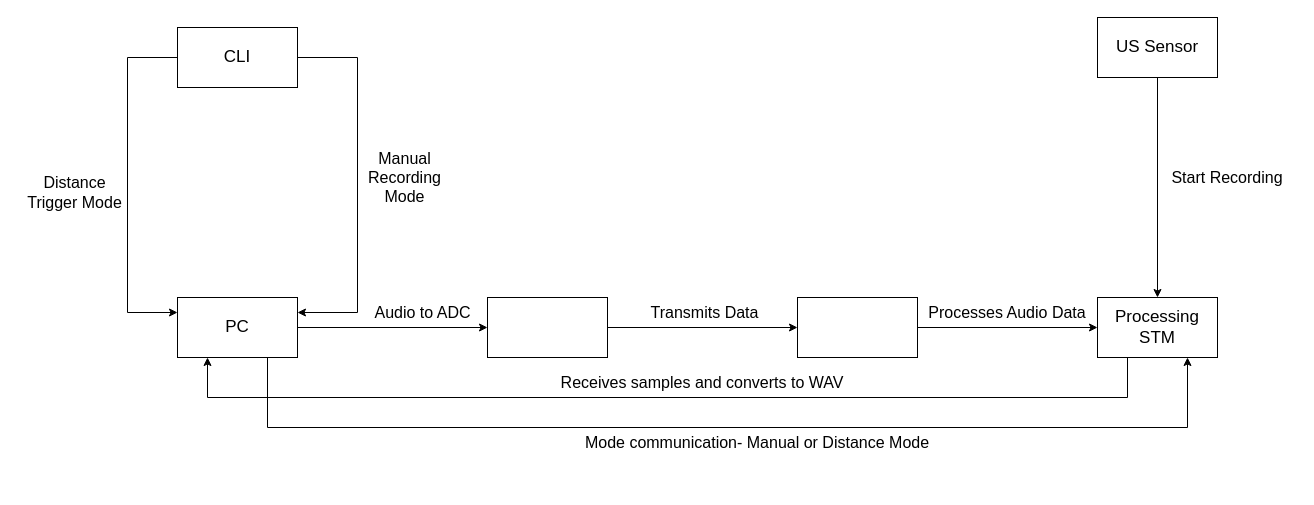
Image size: 1314x505. Some labels were removed from this diagram. The box of each missing label's shape, as (x1, y1, x2, y2) in pixels:
ADC: (486, 296, 608, 358)
Sampling STM: (796, 296, 918, 358)
